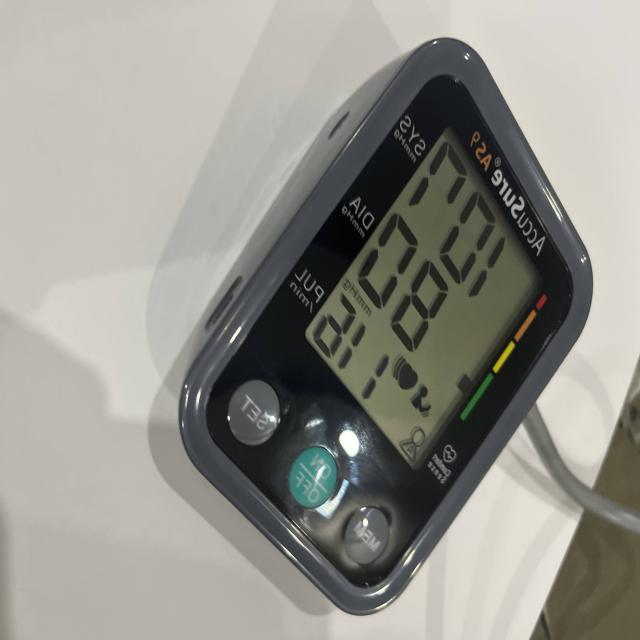bp: (172, 37, 593, 619)
